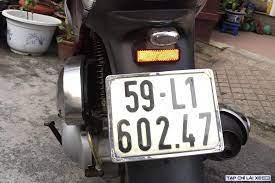numplate: (105, 67, 225, 162)
